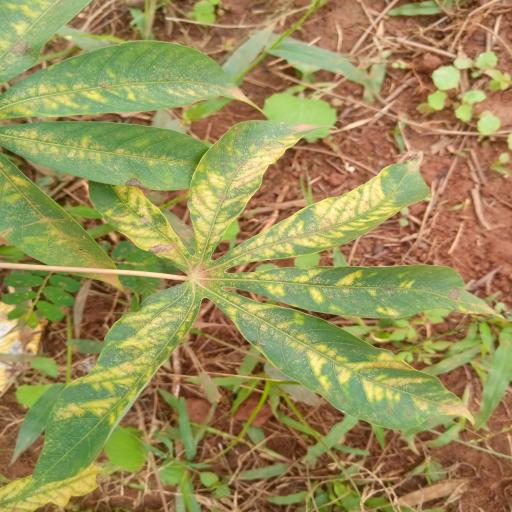Cassava_Mosaic: (23, 109, 493, 481)
